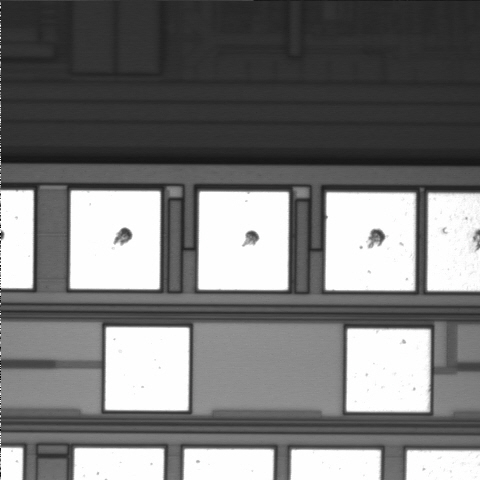pad: (198, 192, 289, 290), (325, 192, 415, 291), (70, 191, 160, 289), (105, 327, 189, 411), (346, 329, 430, 412)
